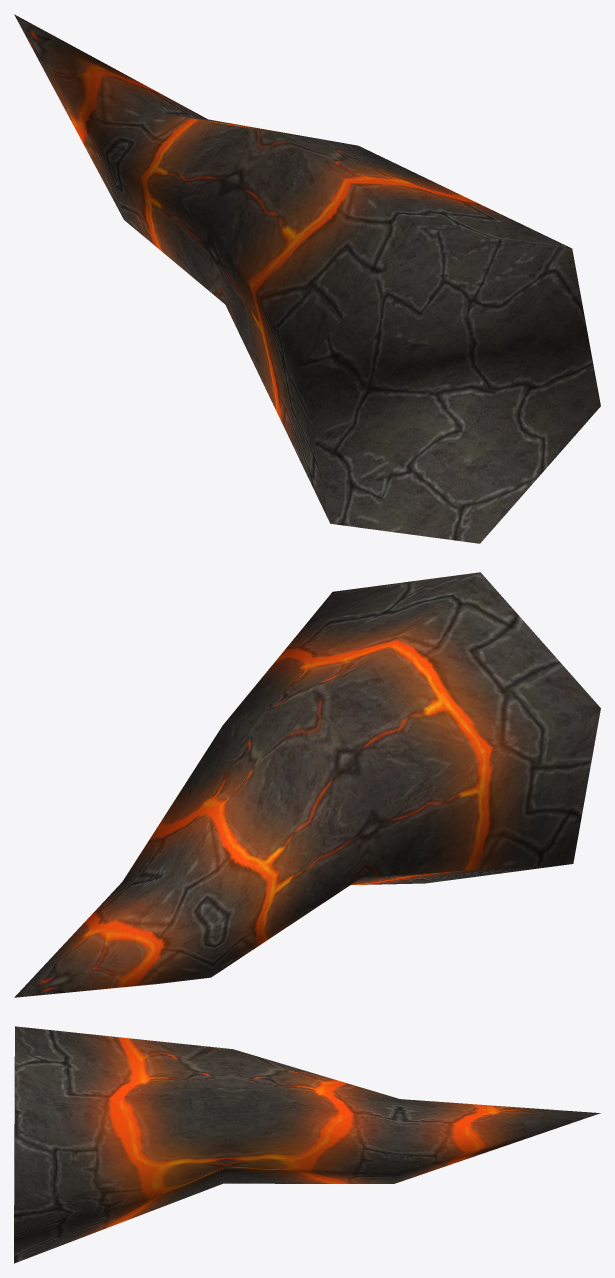
File: stalactite_02.obj
3 views of the same model, one above another, from view 1: azimuth 30°, elevation 25°; view 2: azimuth 150°, elevation 25°; view 3: azimuth 270°, elevation 25° (orthographic). The views are drawn at different scales.
Visible parts, largest first — view 1: (null); view 2: (null); view 3: (null).
Boxes of the visible parts, x1,y1,x2,y2 form: (null): (14, 14, 600, 543); (null): (14, 572, 600, 997); (null): (14, 1026, 600, 1263).
Size of the model in its own units: 3.05 by 3.2 by 7.78.
